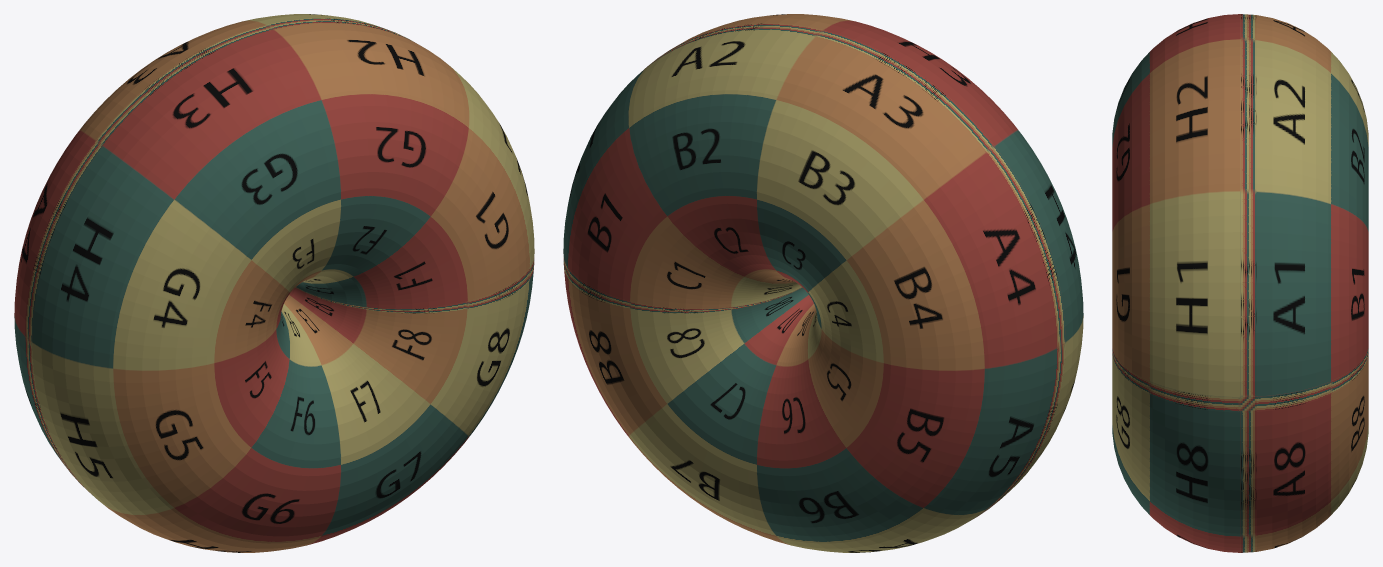
The model's file is texture_torus_R0_r8.glb.
3 views of the same model, side by side, from view 1: azimuth 30°, elevation 25°; view 2: azimuth 150°, elevation 25°; view 3: azimuth 270°, elevation 25° (orthographic). The views are drawn at different scales.
Parts seen in each view (by area): view 1: world; view 2: world; view 3: world.
Boxes of the visible parts, x1,y1,x2,y2 form: world: [14, 14, 534, 552]; world: [563, 14, 1083, 552]; world: [1112, 14, 1368, 552].
Size of the model in its own units: 19.11 by 19.11 by 9.09.
1 material, 1 textured.
